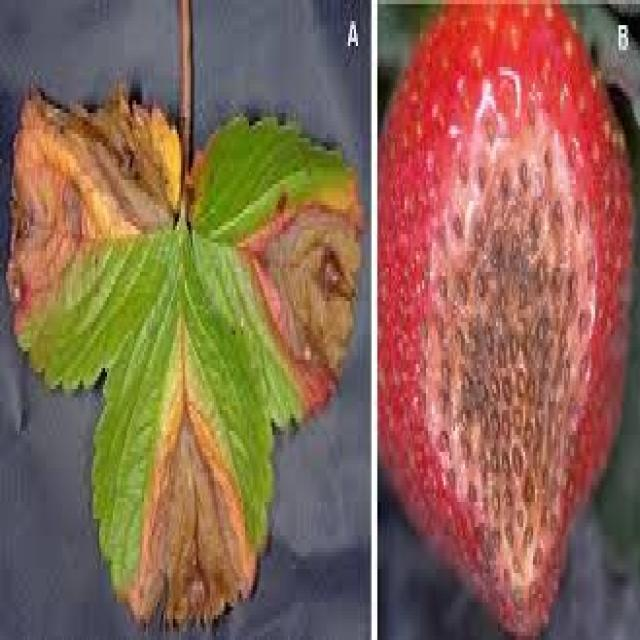Mancha negra Antracnosis: (382, 8, 628, 632)
